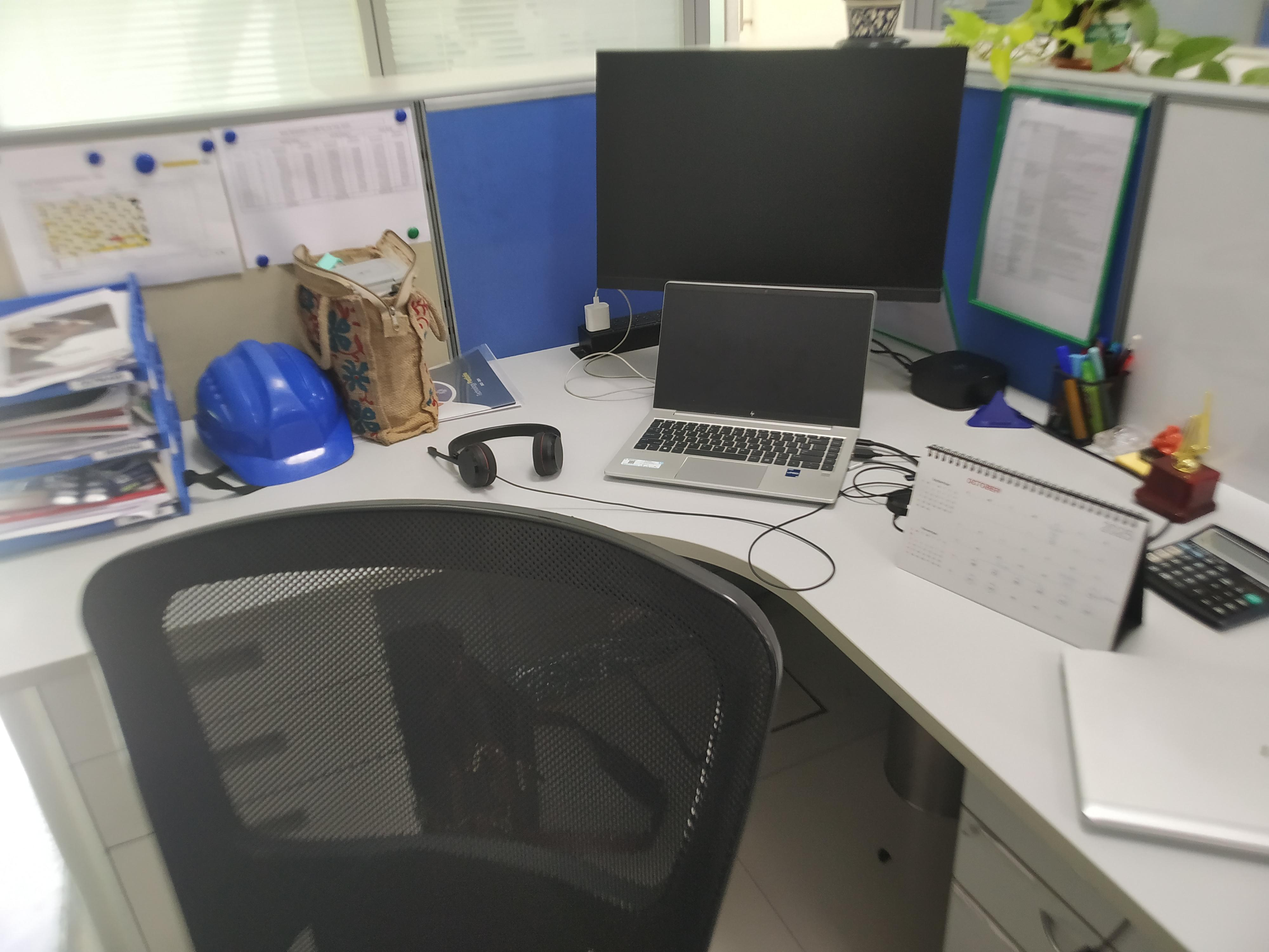book: (430, 342, 531, 425)
calender: (879, 437, 1157, 665)
desktop: (591, 39, 976, 313)
filetray: (0, 271, 195, 563)
headphone: (424, 419, 565, 489)
laptop: (595, 276, 882, 511)
page: (950, 81, 1156, 363), (1, 128, 246, 296), (211, 108, 433, 274)
